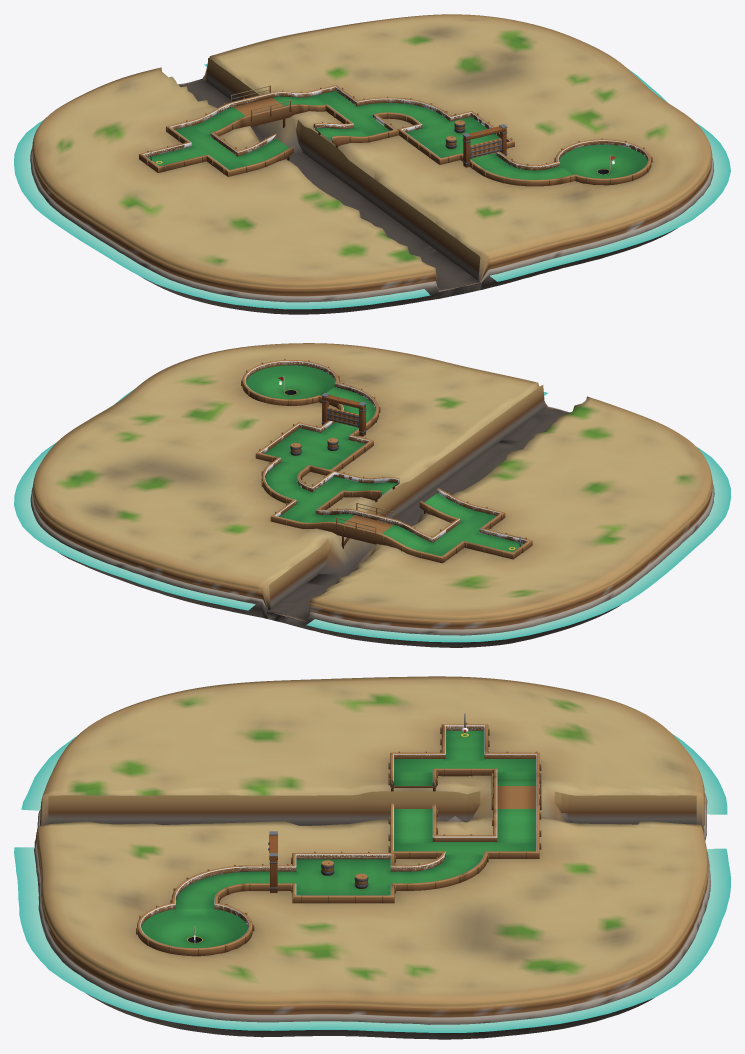
File: course-06.glb
3 renders of one model, top to bottom at view 1: azimuth 30°, elevation 25°; view 2: azimuth 150°, elevation 25°; view 3: azimuth 270°, elevation 25°, orthographic. The views are drawn at different scales.
Visible parts, largest first — view 1: scenery-matte, floor-felt, rail-trim, water-shore, rail-wood; view 2: scenery-matte, floor-felt, rail-trim, water-shore, rail-wood; view 3: scenery-matte, floor-felt, water-shore, rail-trim, rail-wood, floor-deck.
Boxes of the visible parts, x1,y1,x2,y2 form: scenery-matte: [30, 14, 714, 314]; floor-felt: [147, 90, 647, 179]; rail-trim: [139, 85, 652, 186]; water-shore: [14, 64, 730, 309]; rail-wood: [143, 86, 648, 179]; scenery-matte: [30, 343, 714, 647]; floor-felt: [245, 365, 523, 556]; rail-trim: [241, 359, 532, 563]; water-shore: [14, 389, 730, 642]; rail-wood: [245, 361, 528, 556]; scenery-matte: [34, 676, 710, 1039]; floor-felt: [141, 730, 535, 947]; water-shore: [14, 734, 730, 1032]; rail-trim: [136, 722, 541, 956]; rail-wood: [140, 725, 536, 948]; floor-deck: [497, 786, 535, 808].
Bounding box in the file's own units: 36.35 × 4.18 × 31.85.
